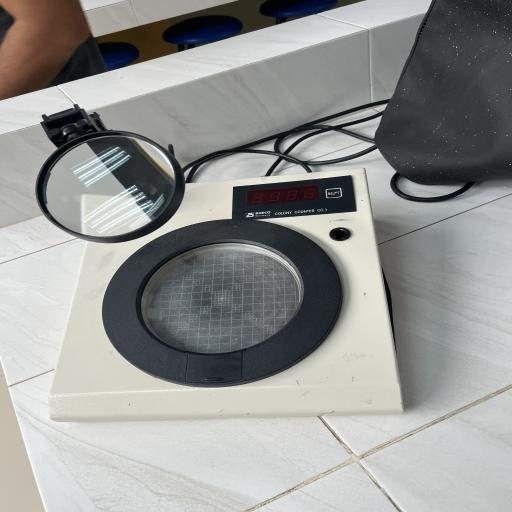Contador_Colonias_CC1: (30, 102, 426, 443)
